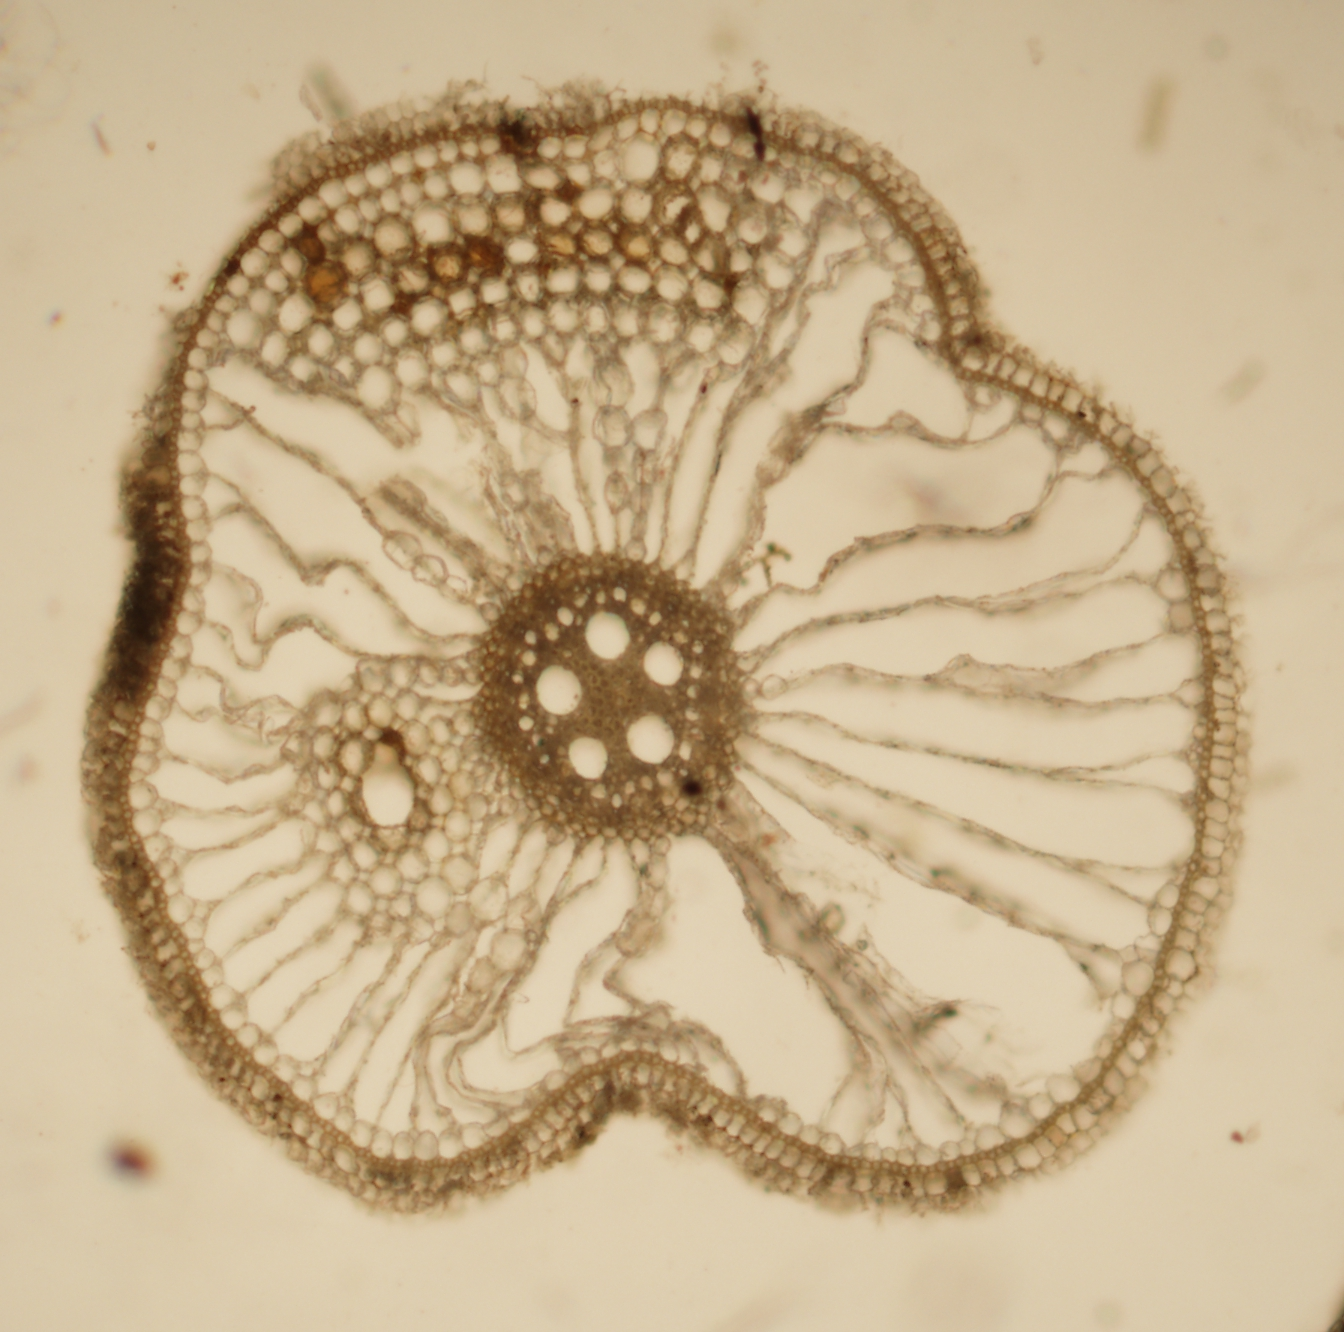lm: (626, 714, 674, 764), (535, 665, 582, 715), (584, 611, 631, 660), (642, 640, 683, 686), (568, 736, 609, 778)
